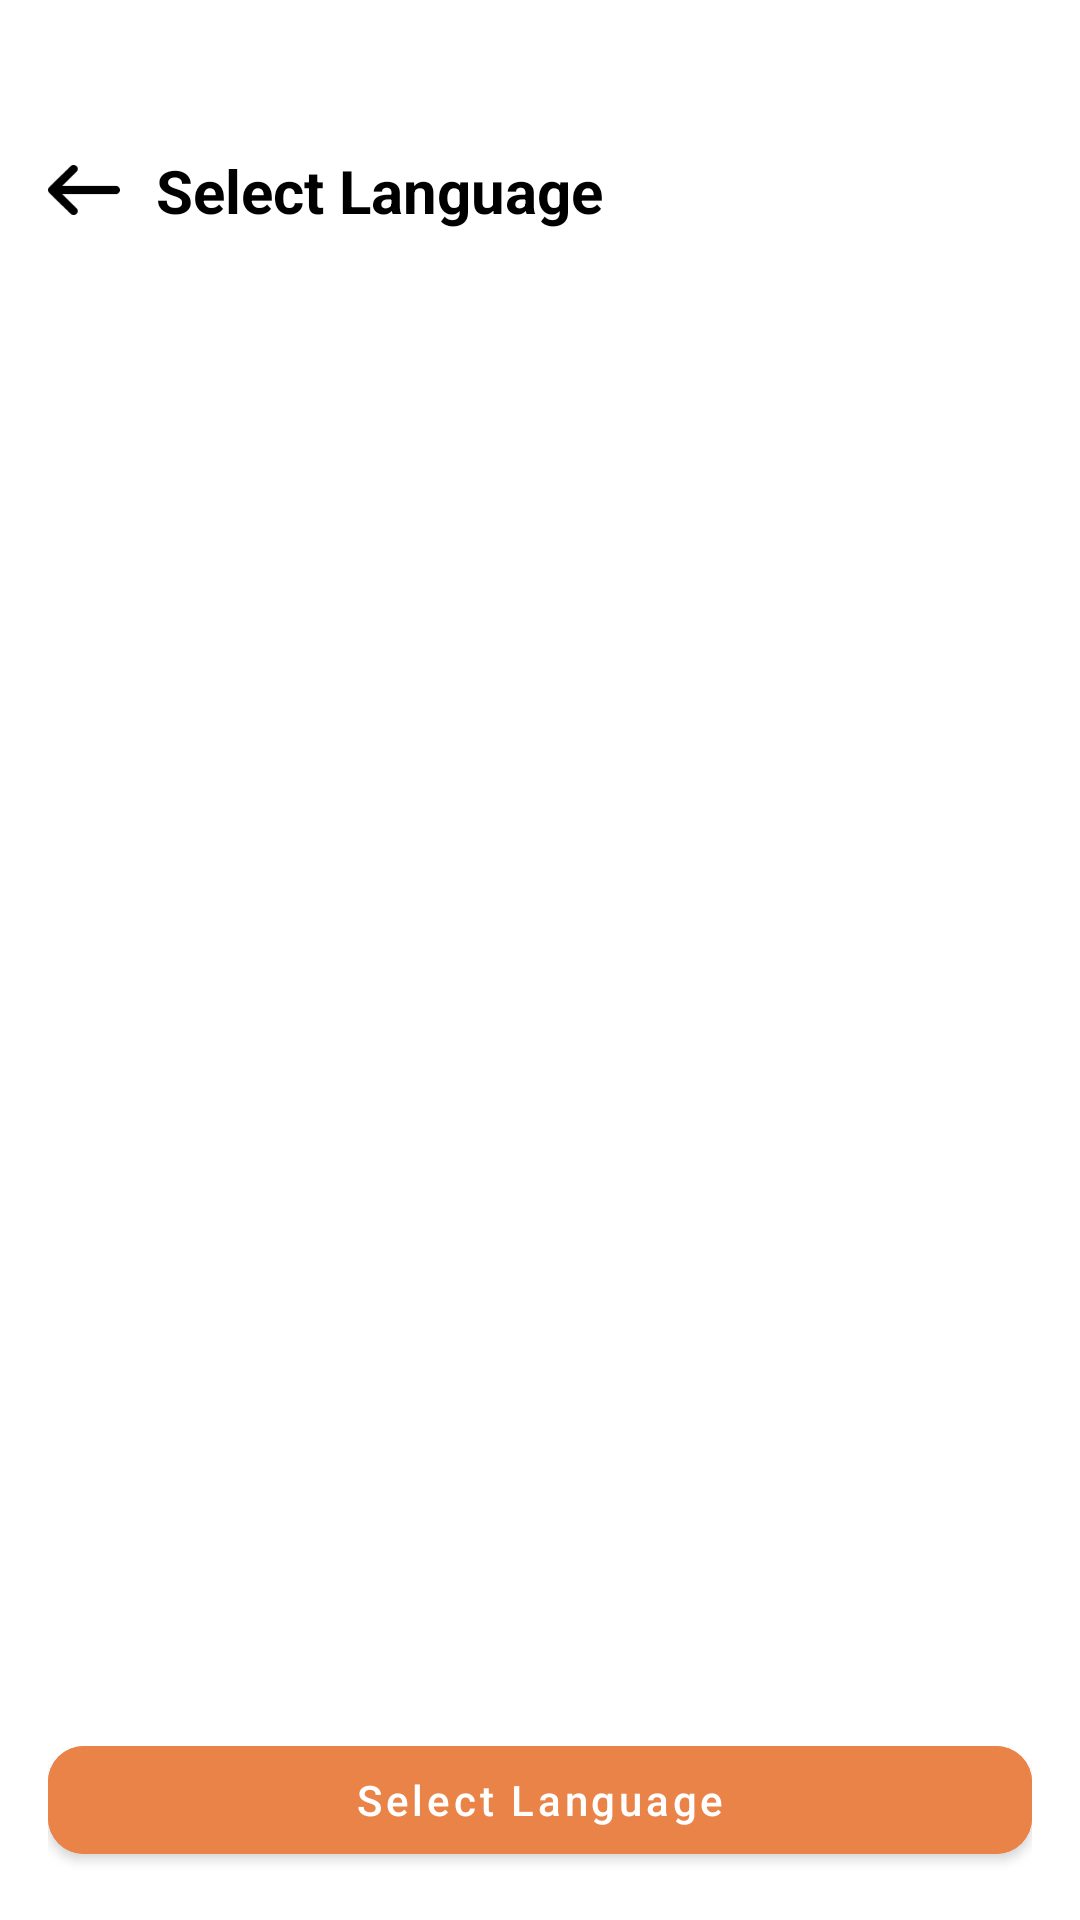

Screen size 1080×1920. Icon name, then its center in pixels as (x,y):
back arrow: (84,190)
